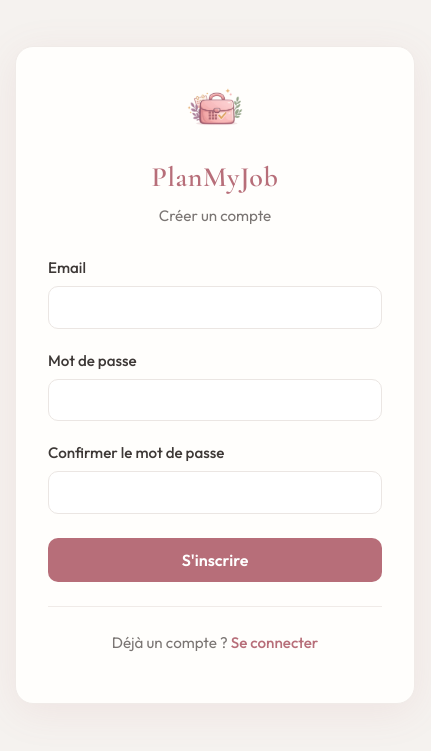
it: Signup › validates password confirmation
In the field labelled "Email": (215,307) [48,286,382,329], type "user@test.com"
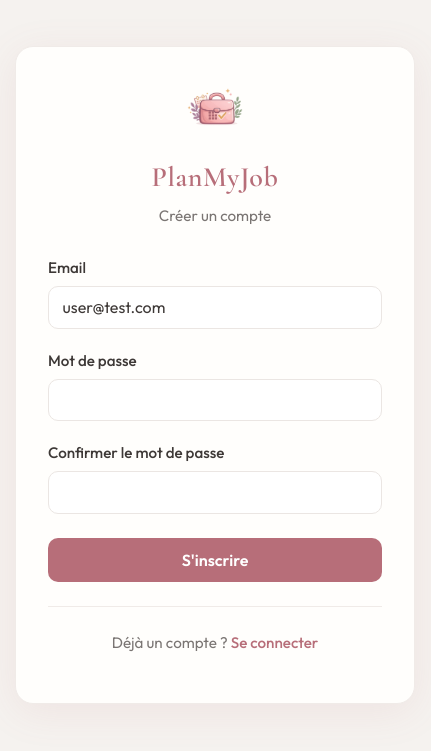
In the password field labelled "Mot de passe": (215,400) [48,379,382,422], type "123456"
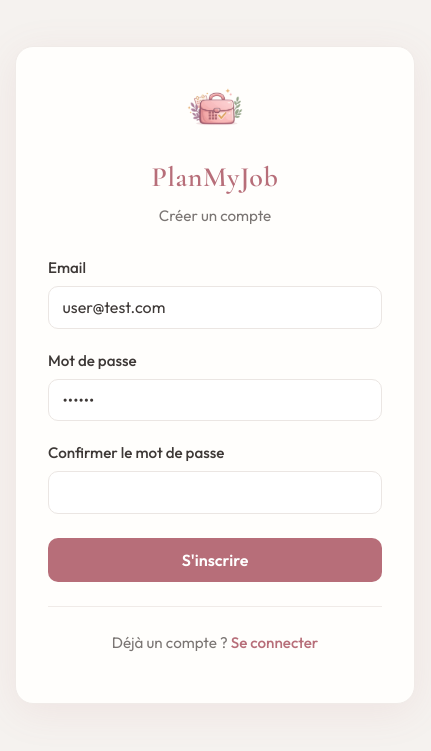
In the password field labelled "Confirmer le mot de passe": (215,493) [48,471,382,514], type "654321"
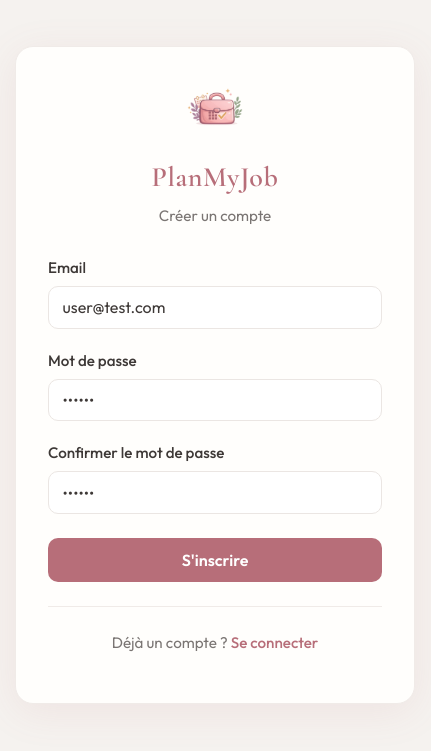
Click the button "S'inscrire": (215,560) [48,538,382,582]
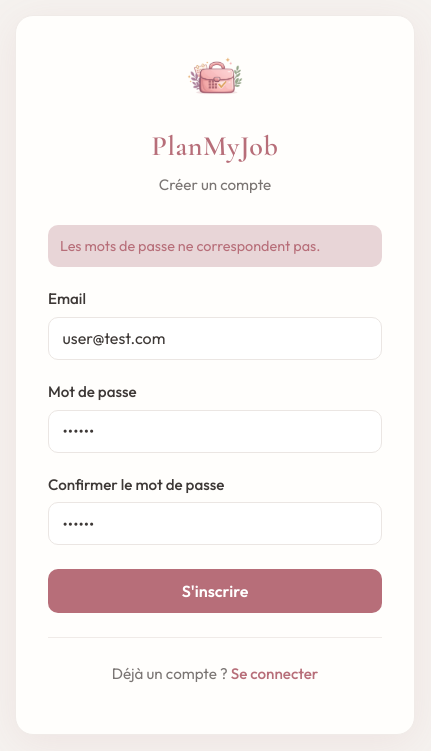
expect the message reads "Les mots de passe ne correspondent pas.": met, box [60,236,320,254]
